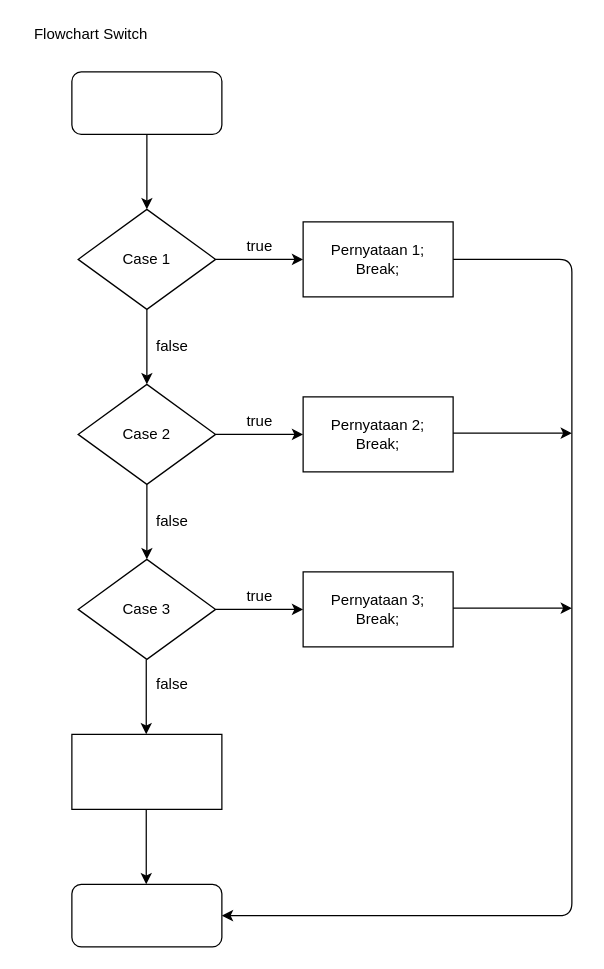
Some shapes in this 604 by 969 pixel diagram are drawn without their labels. The centre of each missing label's shape, as x and y in pixels:
"Mulai" goes at point (146, 102).
"Pernyataan_default" goes at point (146, 771).
"Selesai" goes at point (146, 915).
